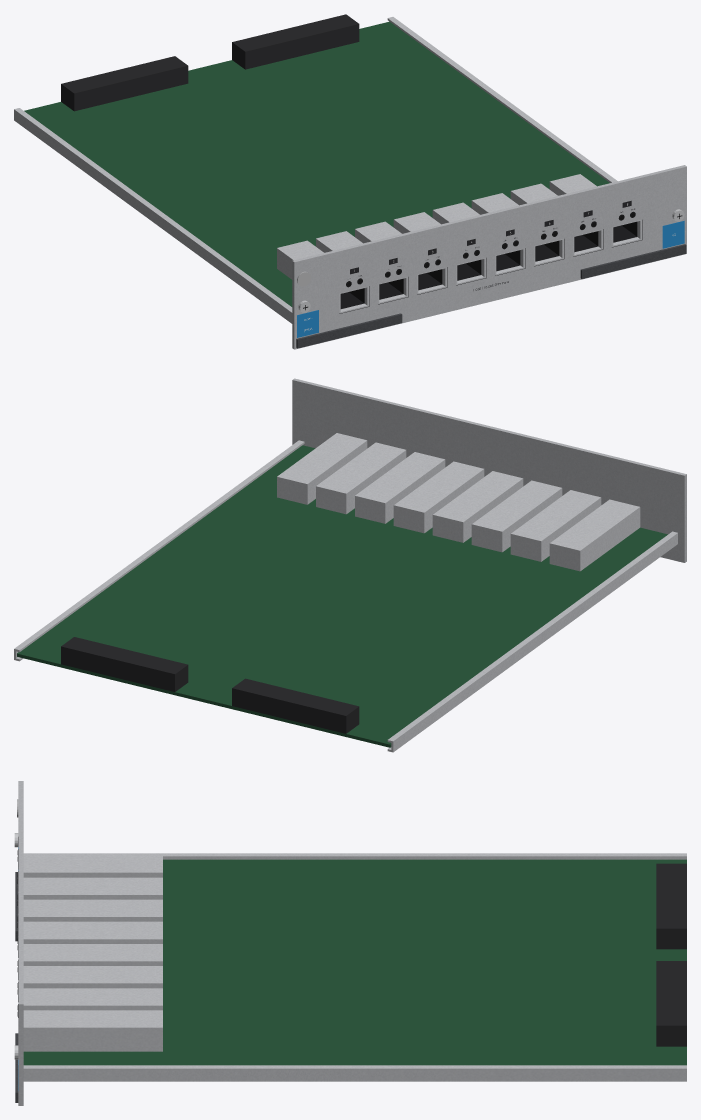
3 renders of one model, top to bottom at view 1: azimuth 30°, elevation 25°; view 2: azimuth 150°, elevation 25°; view 3: azimuth 270°, elevation 25°, orthographic. The views are drawn at different scales.
Parts seen in each view (by area): view 1: Module; view 2: Module; view 3: Module.
Part boxes in pixels (x1,y1,x2,y2): Module: (14,14,686,349); Module: (14,378,686,752); Module: (14,781,686,1105).
Bounding box in the file's own units: 0.2065 × 0.0439 × 0.2633.
13 materials, 3 textured.
